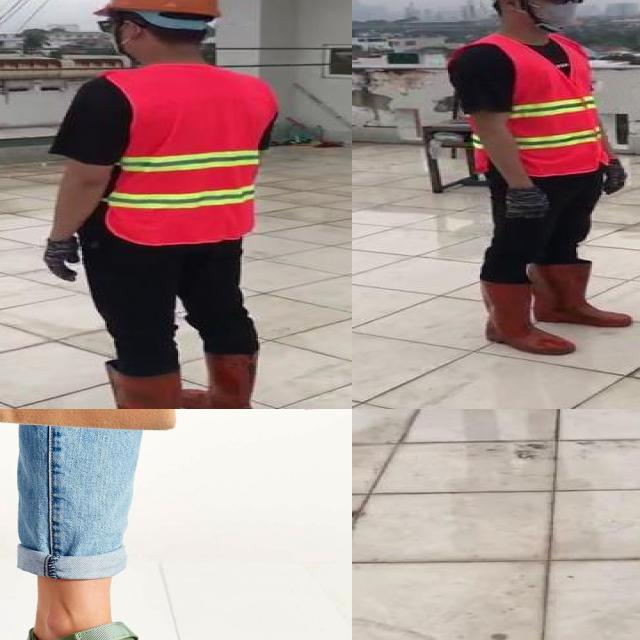Sandals: (22, 596, 276, 640)
boots: (473, 275, 578, 356), (530, 256, 610, 329), (69, 363, 185, 409), (179, 350, 263, 409)
face_mask: (527, 0, 582, 26)
glasses: (540, 0, 588, 7)
hand_glove: (45, 241, 87, 281), (503, 186, 549, 218)
head_helmet: (90, 0, 221, 19)
person: (22, 0, 285, 409), (442, 0, 638, 362)
vest: (100, 65, 279, 243), (446, 37, 604, 175)
